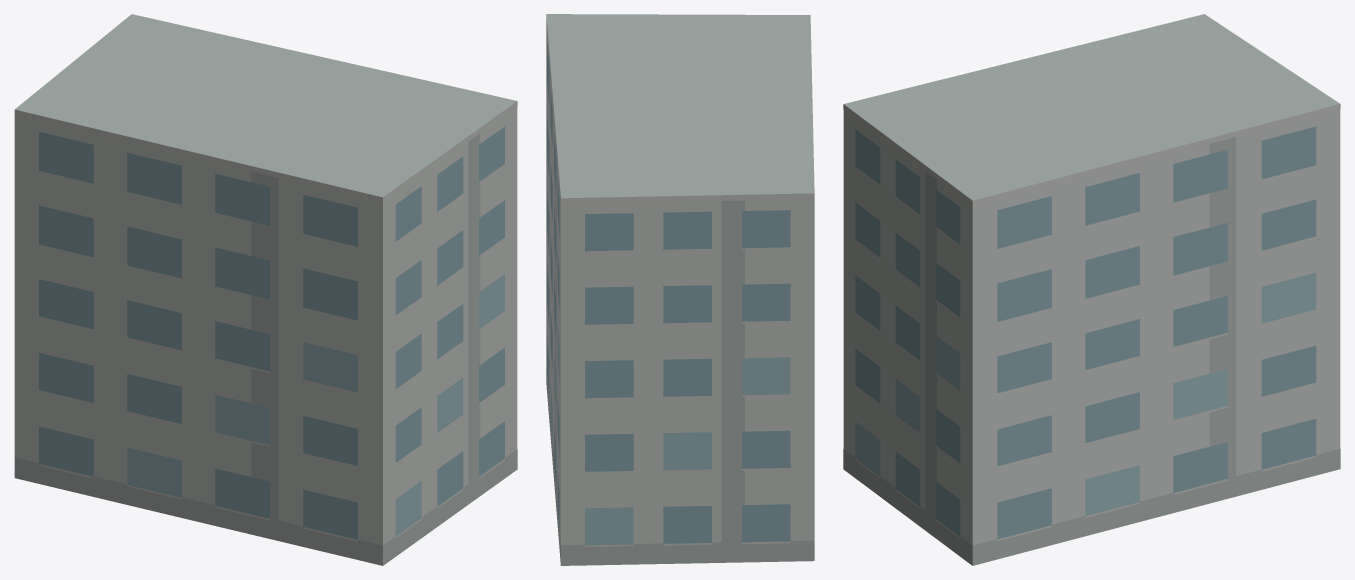
The model's file is survey-upis-32791119.glb.
3 views of the same model, side by side, from view 1: azimuth 30°, elevation 25°; view 2: azimuth 150°, elevation 25°; view 3: azimuth 270°, elevation 25° (orthographic).
Visible parts, largest first — view 1: survey-upis-32791119.tmp; view 2: survey-upis-32791119.tmp; view 3: survey-upis-32791119.tmp.
Part boxes in pixels (<box>): survey-upis-32791119.tmp: <box>14,14,517,565</box>; survey-upis-32791119.tmp: <box>546,14,814,565</box>; survey-upis-32791119.tmp: <box>843,14,1340,565</box>.
Size of the model in its own units: 17.16 by 15.65 by 19.31.
